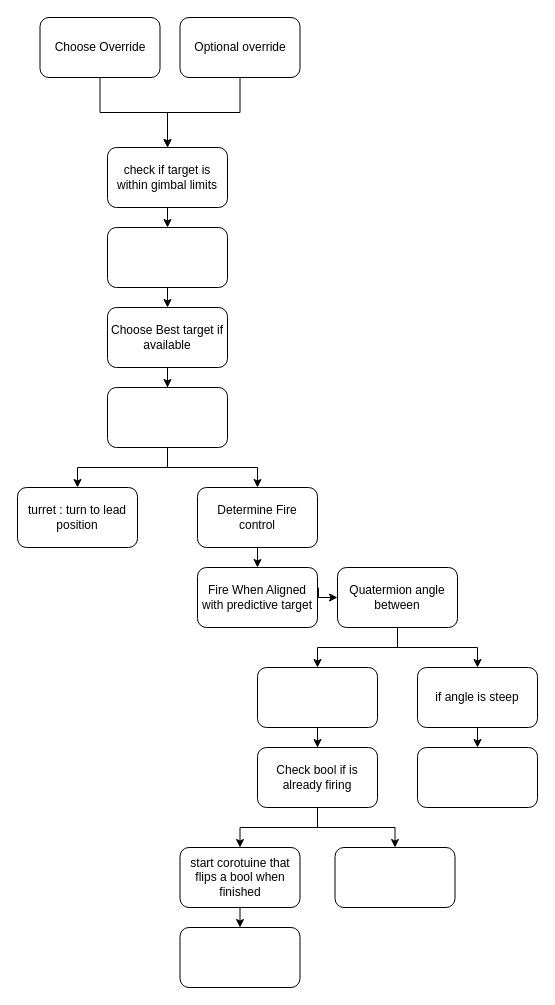
Image size: 555x1005. Some labels were removed from this diagram. Each missing label, with the box of its shape:
Do nothing: (334, 846, 455, 908)
Fire if bool is toggled to true this frame: (179, 926, 300, 988)
if angle is shallow: (256, 666, 378, 728)
Rotate to best target if applicable: (106, 386, 228, 448)
stop firing / wait til next frame: (416, 746, 538, 808)
TargetHandler : Scored Targets: (106, 226, 228, 288)
